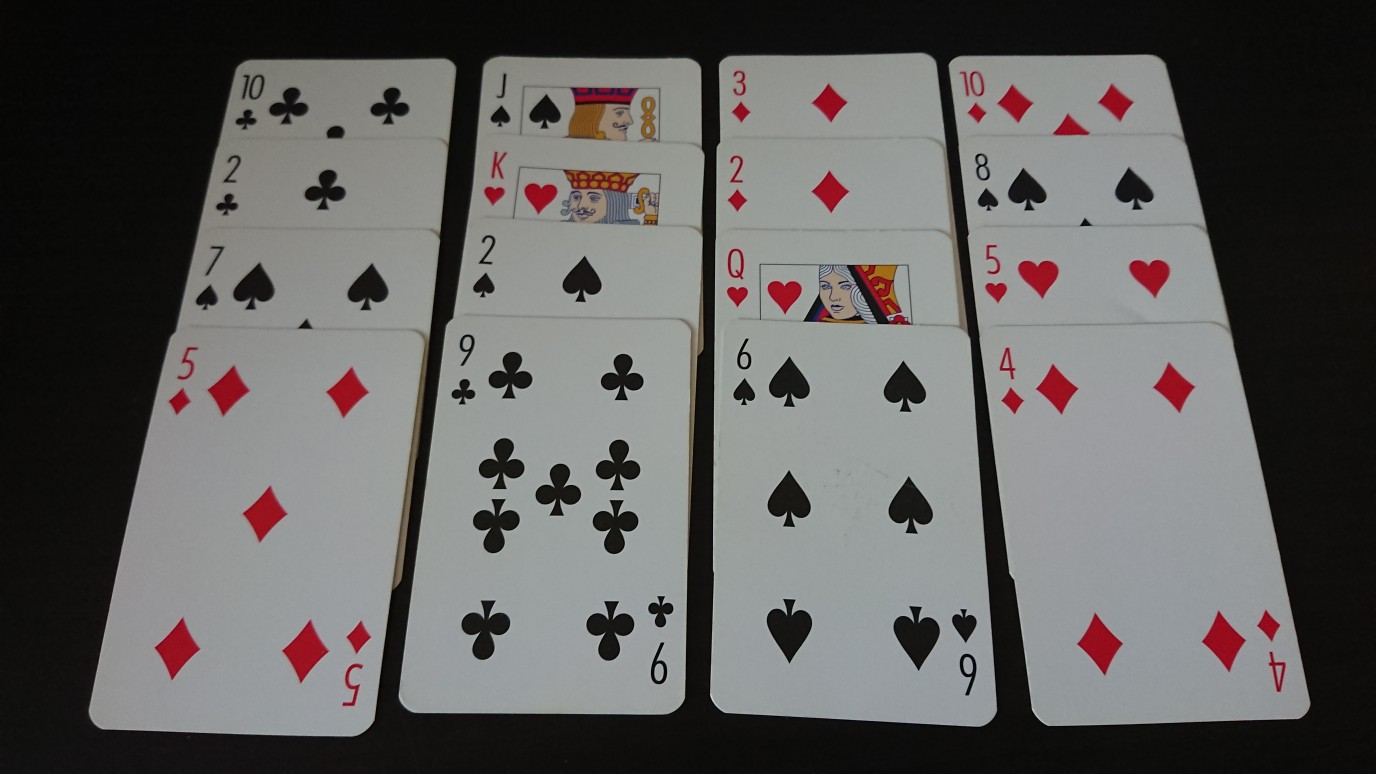10C: (230, 67, 269, 137)
10D: (955, 61, 992, 131)
2C: (211, 148, 246, 224)
2D: (722, 149, 753, 218)
2S: (467, 229, 501, 303)
3D: (725, 64, 757, 126)
4D: (993, 342, 1029, 419)
5D: (163, 341, 204, 420)
5H: (977, 238, 1011, 308)
6S: (727, 332, 761, 411)
7S: (190, 238, 228, 318)
8S: (966, 148, 1004, 218)
9C: (446, 326, 482, 412)
JS: (484, 67, 519, 132)
KH: (478, 143, 513, 208)
QH: (722, 242, 753, 315)
